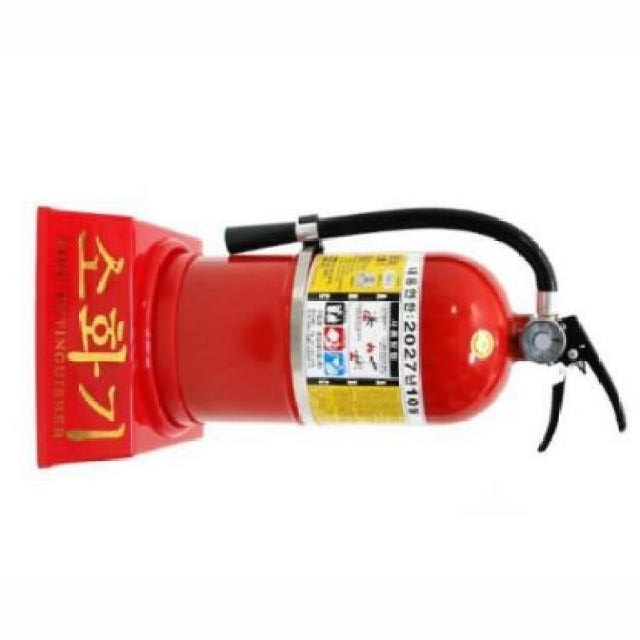fire extinguisher: (151, 208, 627, 454)
